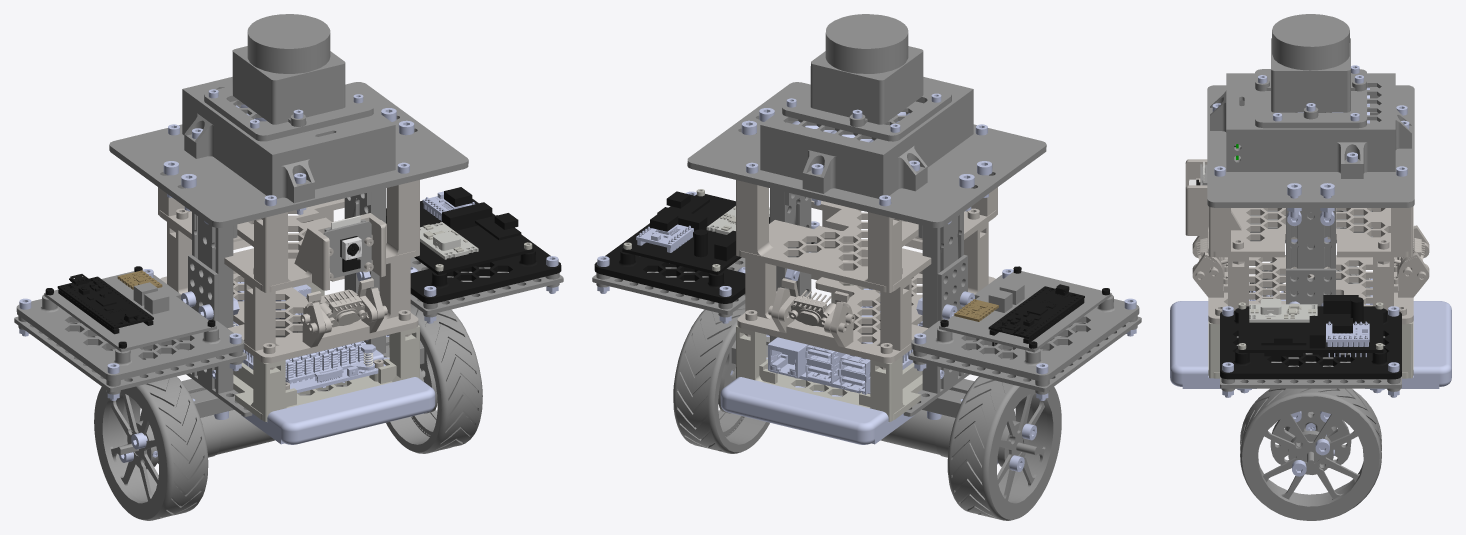
The model's file is two-wheeler-lidar.glb.
3 renders of one model, left to right at view 1: azimuth 30°, elevation 25°; view 2: azimuth 150°, elevation 25°; view 3: azimuth 270°, elevation 25°, orthographic. The views are drawn at different scales.
Parts seen in each view (by area): view 1: robot; view 2: robot; view 3: robot.
Part boxes in pixels (x1,y1,x2,y2): robot: (14, 14, 563, 520); robot: (592, 14, 1141, 520); robot: (1170, 14, 1451, 520).
Bounding box in the file's own units: 0.238 × 0.2236 × 0.136.
